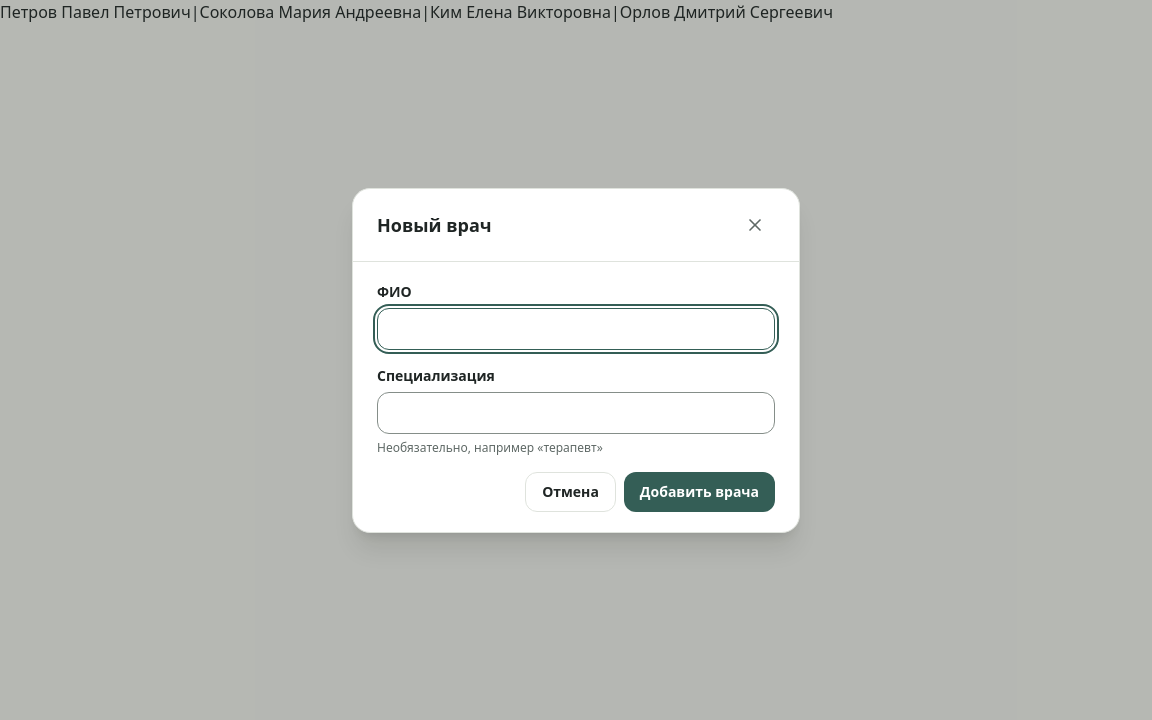
Test case: VetFormModal: добавление › ответ 422 — ошибка у поля и над кнопкой
Type "Петров" into the field labelled "ФИО" at (576, 328), box left=377, top=308, right=775, bottom=350
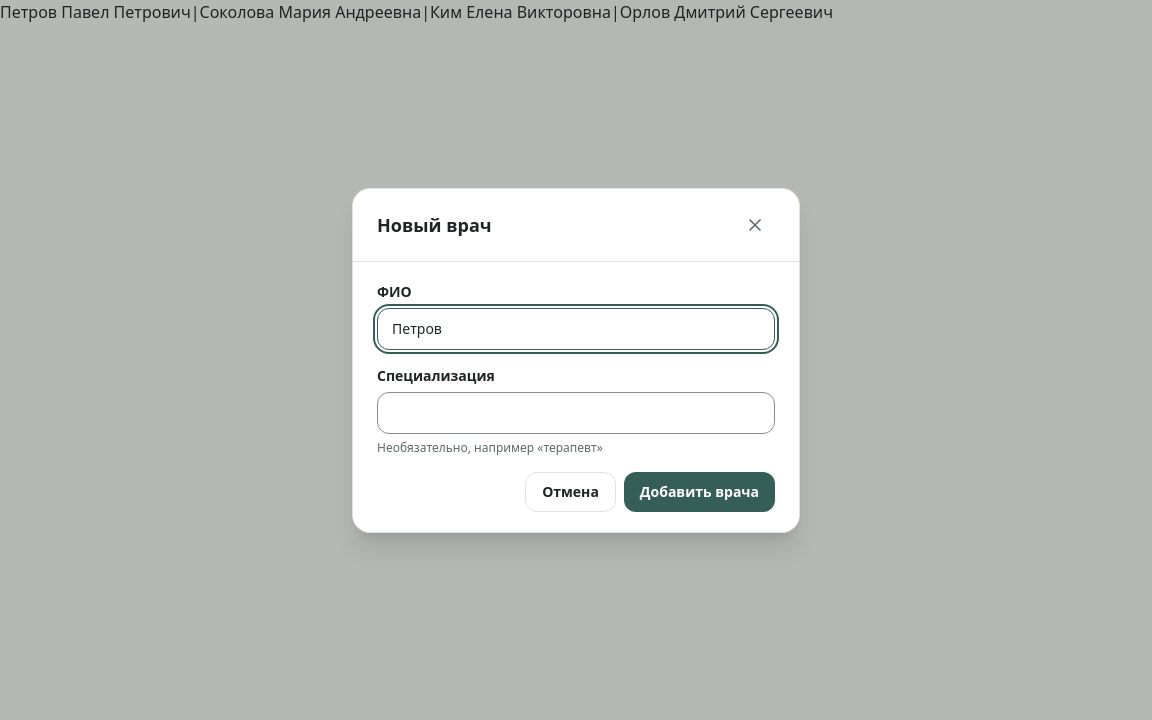
Click the button "Добавить врача" at (699, 492), box left=624, top=472, right=775, bottom=512
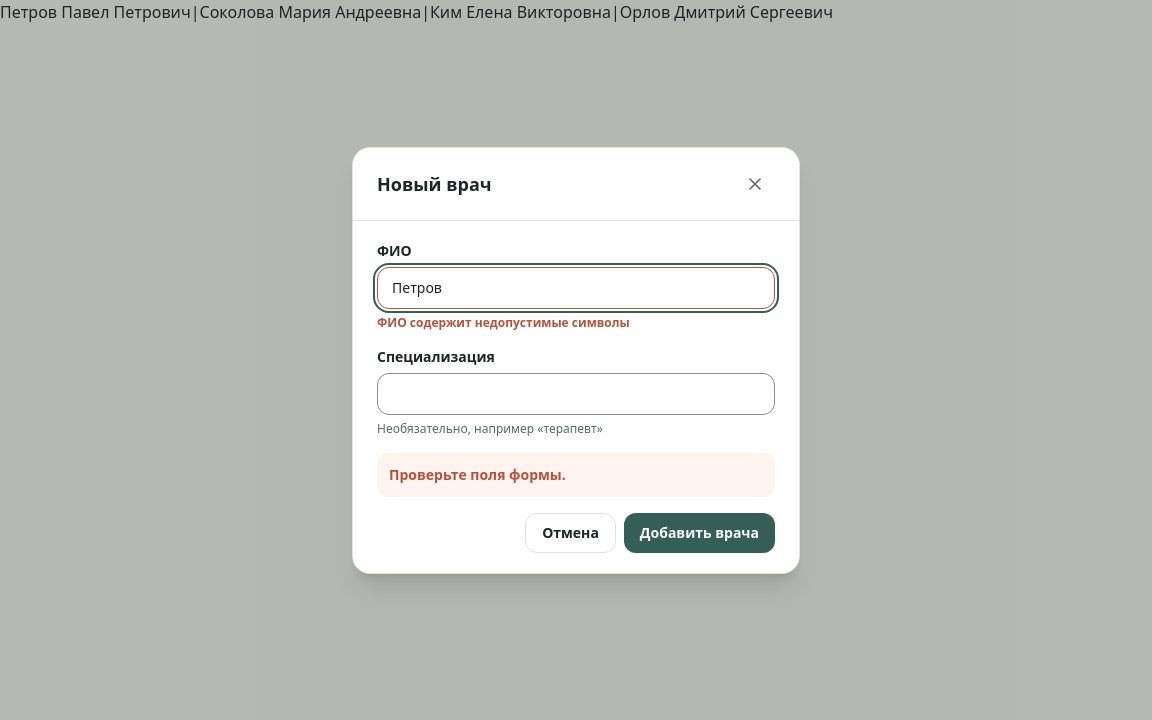
Now the text "ФИО содержит недопустимые символы" is shown, box left=377, top=314, right=630, bottom=330
Now the message reads "Проверьте поля формы.", box left=389, top=464, right=566, bottom=484
